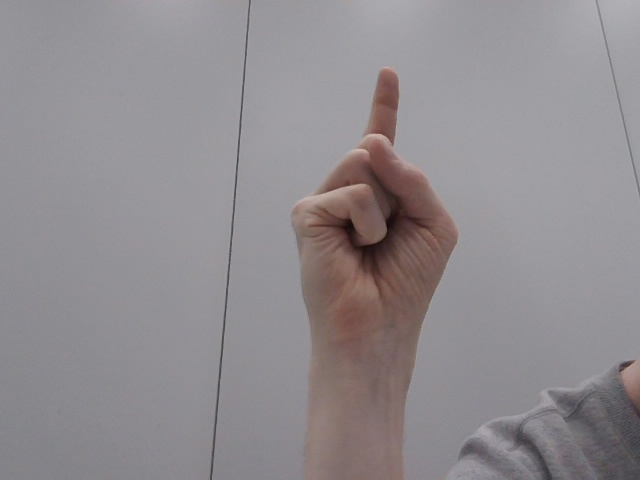up: (271, 57, 499, 390)
